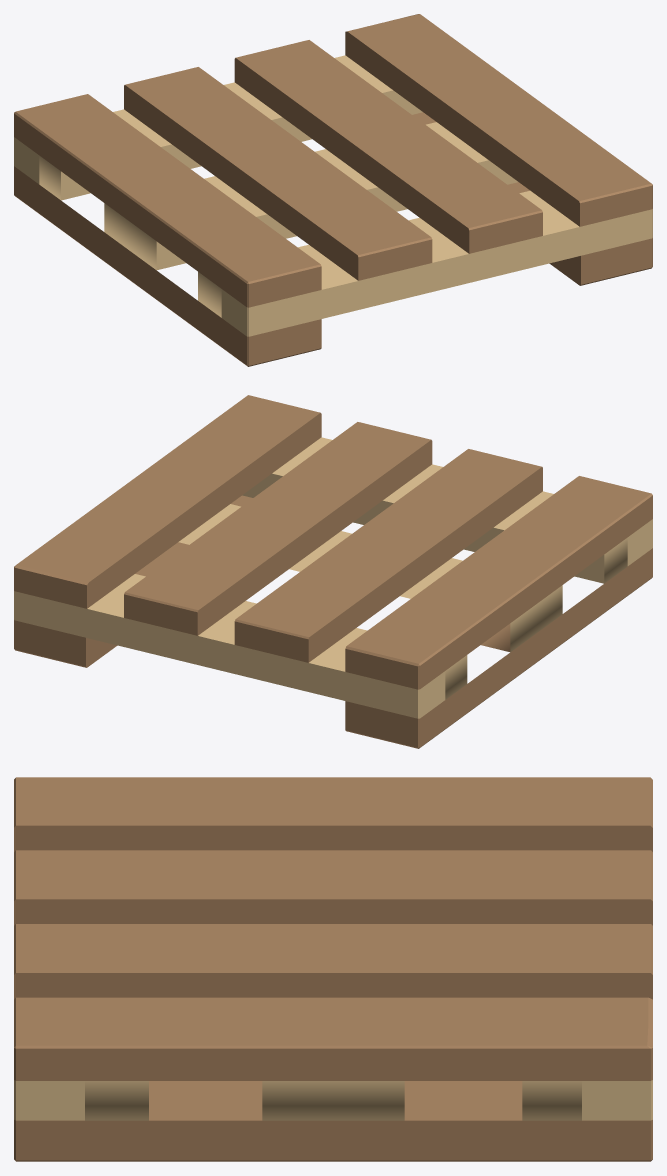
The model's file is PalletNEW.fbx.
The picture shows the model from 3 angles, top to bottom: view 1: azimuth 30°, elevation 25°; view 2: azimuth 150°, elevation 25°; view 3: azimuth 270°, elevation 25°; orthographic projection. The views are drawn at different scales.
Parts seen in each view (by area): view 1: New Big Pallet.001; view 2: New Big Pallet.001; view 3: New Big Pallet.001.
Boxes of the visible parts, x1,y1,x2,y2 form: New Big Pallet.001: (14, 14, 652, 366); New Big Pallet.001: (14, 395, 652, 748); New Big Pallet.001: (14, 777, 652, 1161).
Bounding box in the file's own units: 100 × 20 × 100.
